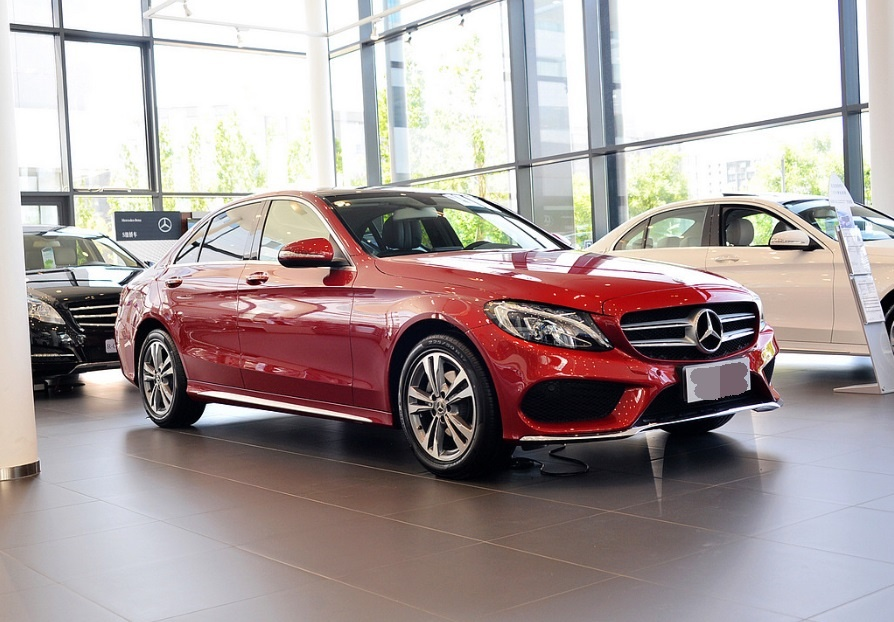family sedan: (109, 160, 791, 468)
